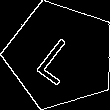L_NE: (31, 26, 90, 85)
